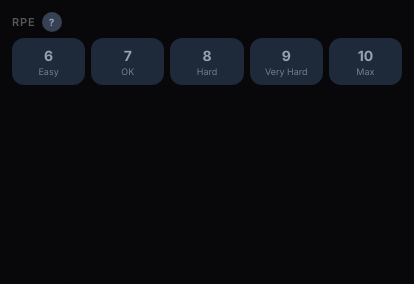
RPE Info Tooltip › tapping info button shows explanation popover
Expected: the text "How hard was your set?" is not shown
What coordinates should you click on to do the following:
click the button named "What is RPE?"
I would click on:
 (52, 22)
Its box is [42,12,62,32].
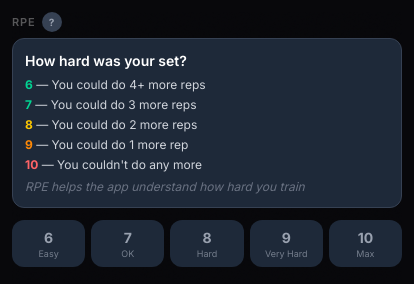
Expected: the text "How hard was your set?" is shown, [25,52,187,69]
